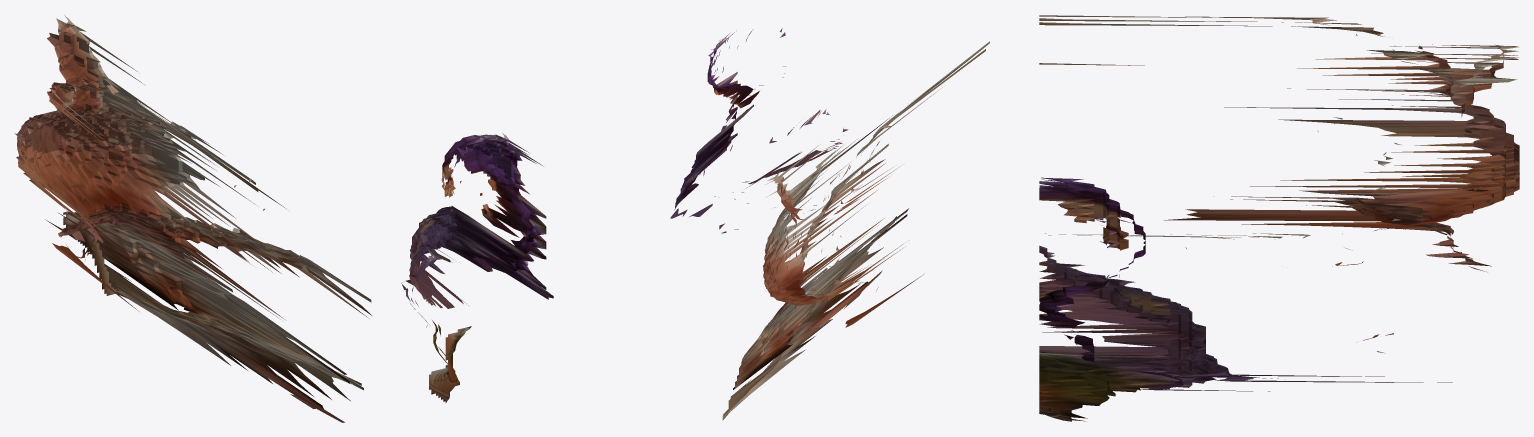
File: frame_00339.glb
The picture shows the model from 3 angles, left to right: view 1: azimuth 30°, elevation 25°; view 2: azimuth 150°, elevation 25°; view 3: azimuth 270°, elevation 25°; orthographic projection. The views are drawn at different scales.
Visible parts, largest first — view 1: geometry_0; view 2: geometry_0; view 3: geometry_0.
Part boxes in pixels (box(x1,y1,x2,y2)): geometry_0: box(14, 15, 553, 422); geometry_0: box(670, 28, 989, 420); geometry_0: box(1039, 15, 1519, 421).
Size of the model in its own units: 0.1367 by 0.1184 by 0.16.
1 material, 1 textured.
